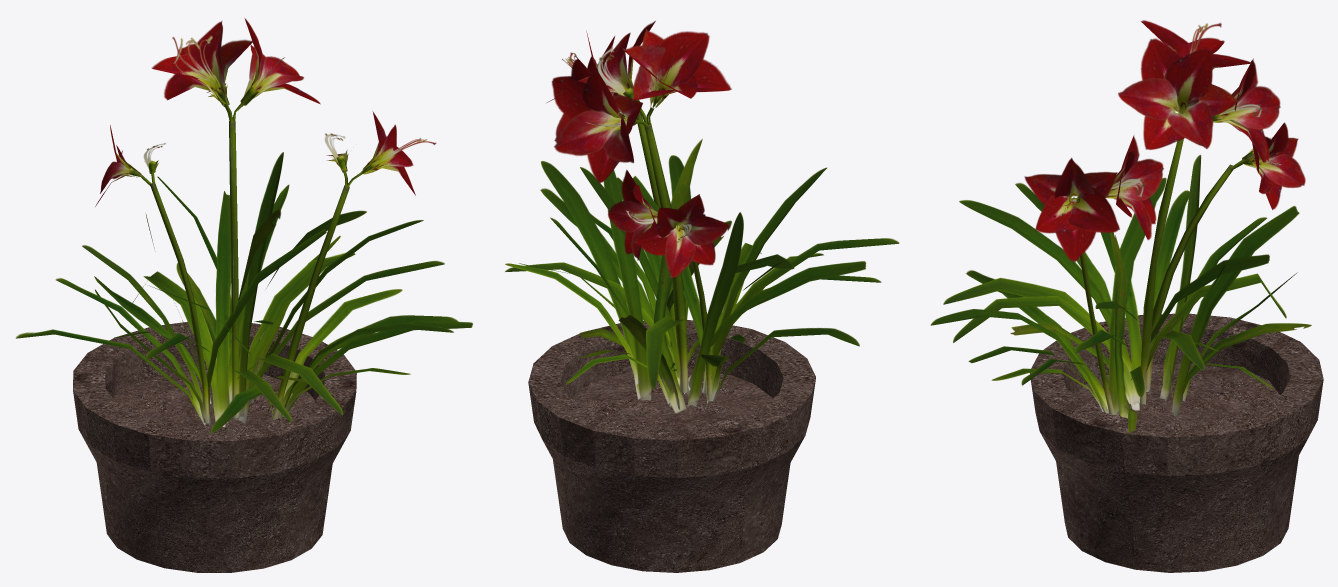
File: enu_amarillis_big.glb
3 views of the same model, side by side, from view 1: azimuth 30°, elevation 25°; view 2: azimuth 150°, elevation 25°; view 3: azimuth 270°, elevation 25° (orthographic). The views are drawn at different scales.
Parts seen in each view (by area): view 1: pCylinder1, Amaryllis_LOD1_Var6_sgzkv, pCylinder2; view 2: Amaryllis_LOD1_Var6_sgzkv, pCylinder1, pCylinder2; view 3: Amaryllis_LOD1_Var6_sgzkv, pCylinder1, pCylinder2.
Part boxes in pixels (x1=…): pCylinder1: x1=73, y1=322, x2=356, y2=572; Amaryllis_LOD1_Var6_sgzkv: x1=16, y1=18, x2=472, y2=433; pCylinder2: x1=113, y1=370, x2=314, y2=427; Amaryllis_LOD1_Var6_sgzkv: x1=505, y1=21, x2=899, y2=413; pCylinder1: x1=528, y1=320, x2=815, y2=572; pCylinder2: x1=571, y1=368, x2=772, y2=426; Amaryllis_LOD1_Var6_sgzkv: x1=930, y1=20, x2=1311, y2=437; pCylinder1: x1=1030, y1=313, x2=1323, y2=572; pCylinder2: x1=1074, y1=364, x2=1279, y2=423.
Size of the model in its own units: 2.65 by 3.35 by 2.34.
3 materials, 3 textured.
